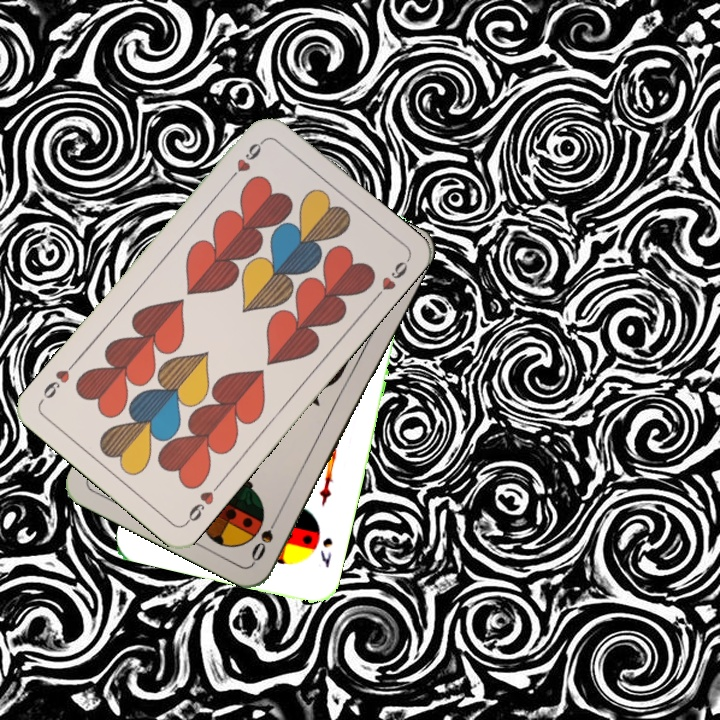H9: (224, 136, 268, 184), (181, 478, 224, 527)
SK: (316, 533, 335, 570)
SO: (247, 510, 283, 564)
